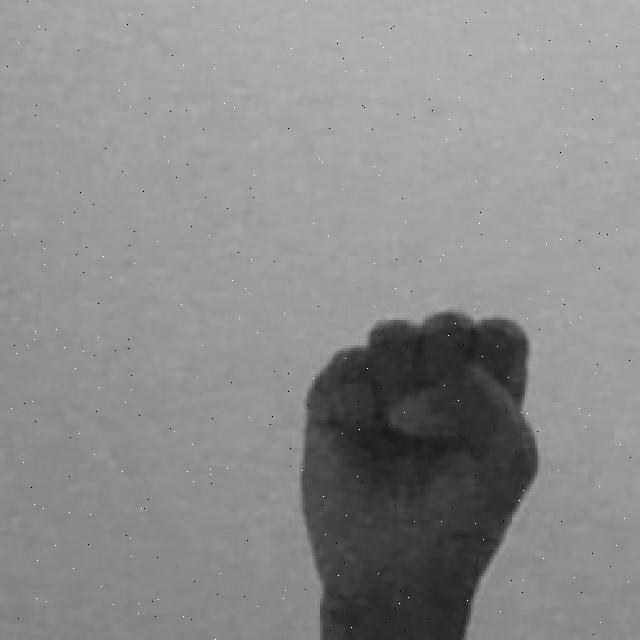S: (291, 304, 547, 640)
